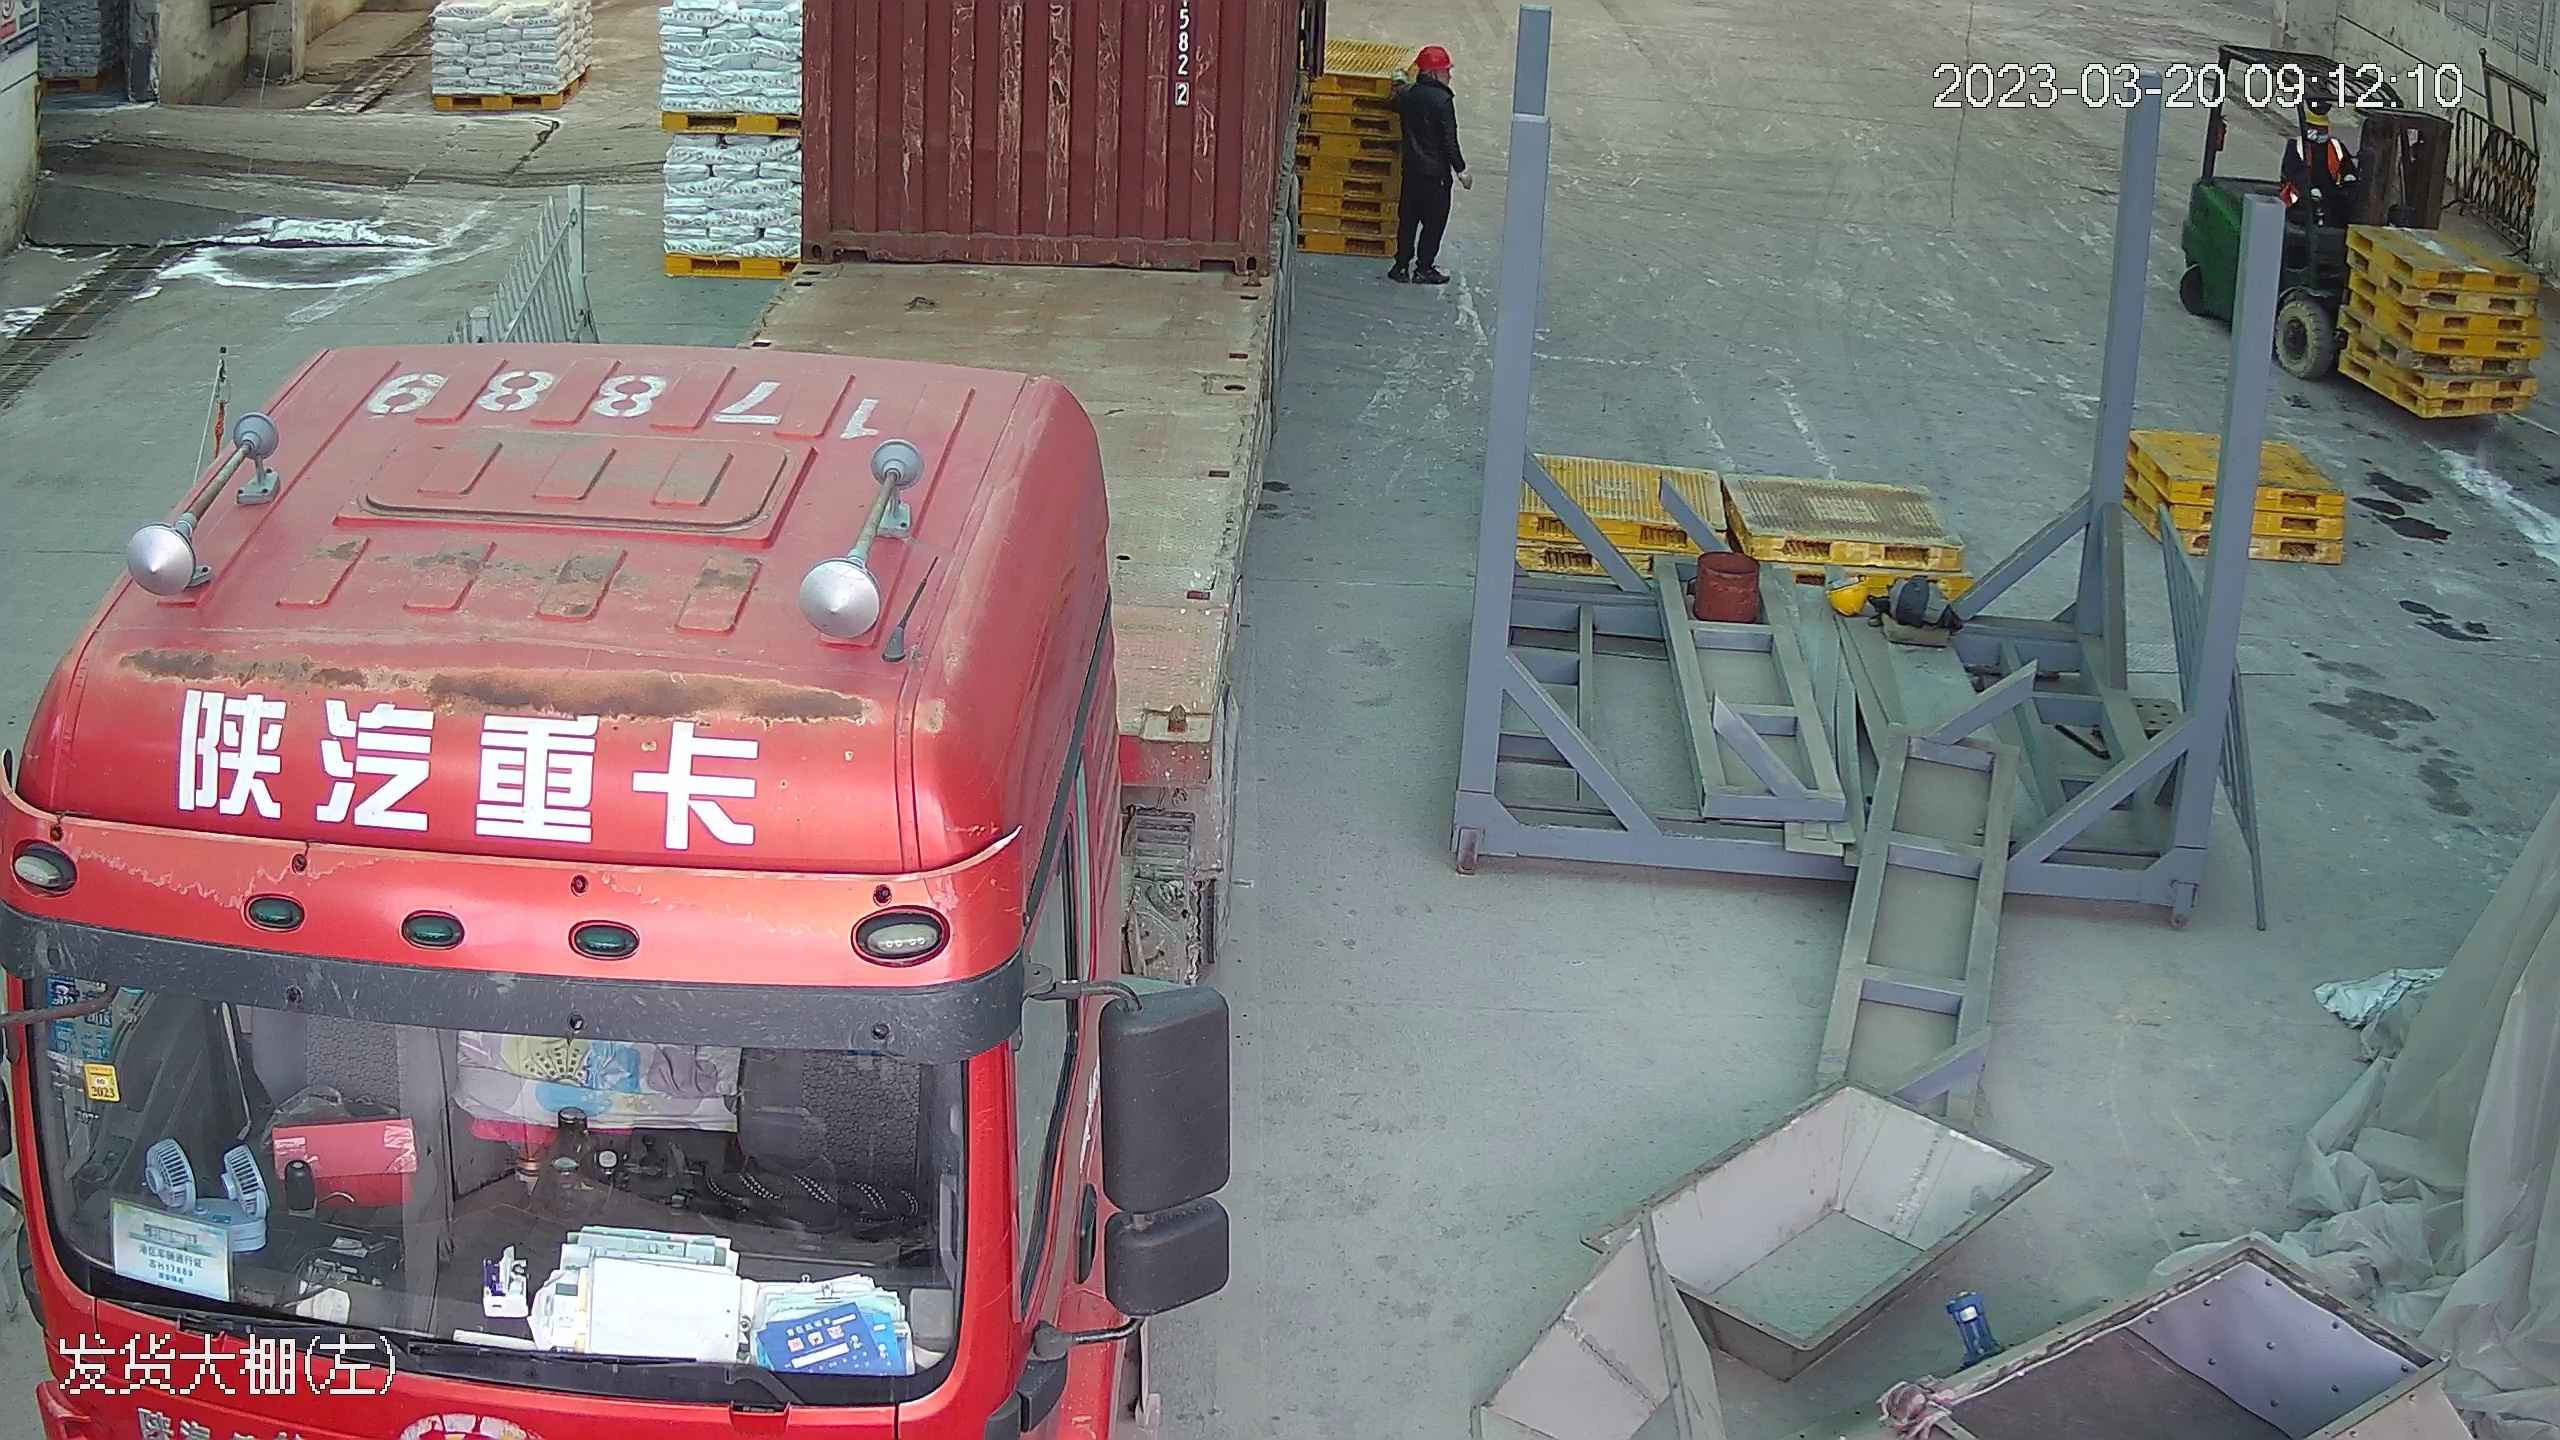head: (1396, 42, 1461, 118)
helmet: (1411, 43, 1452, 75)
people: (1385, 36, 1468, 288)
truck: (8, 1, 1291, 1440)
